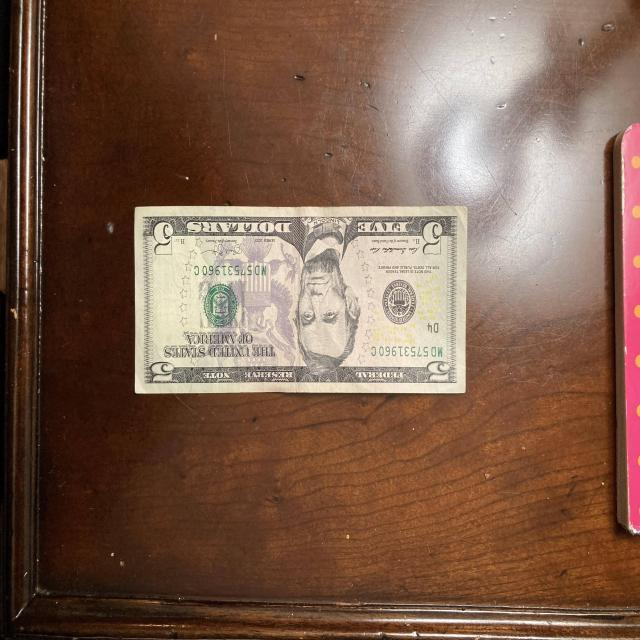five: (132, 203, 469, 394)
